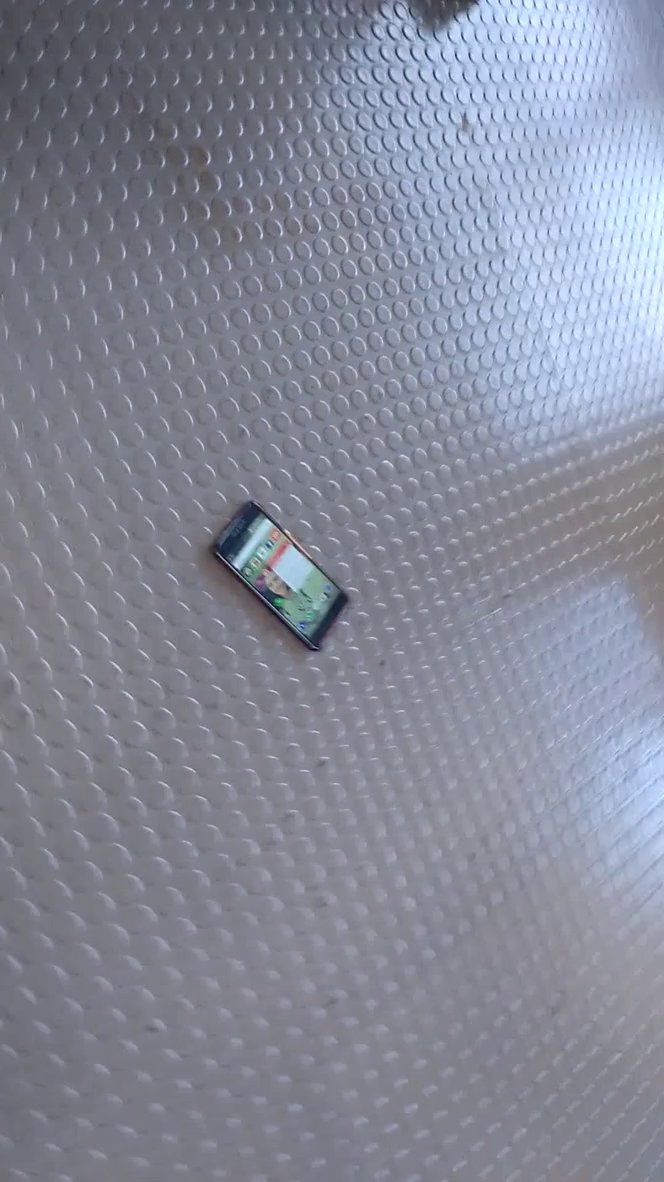phone: (199, 495, 360, 666)
